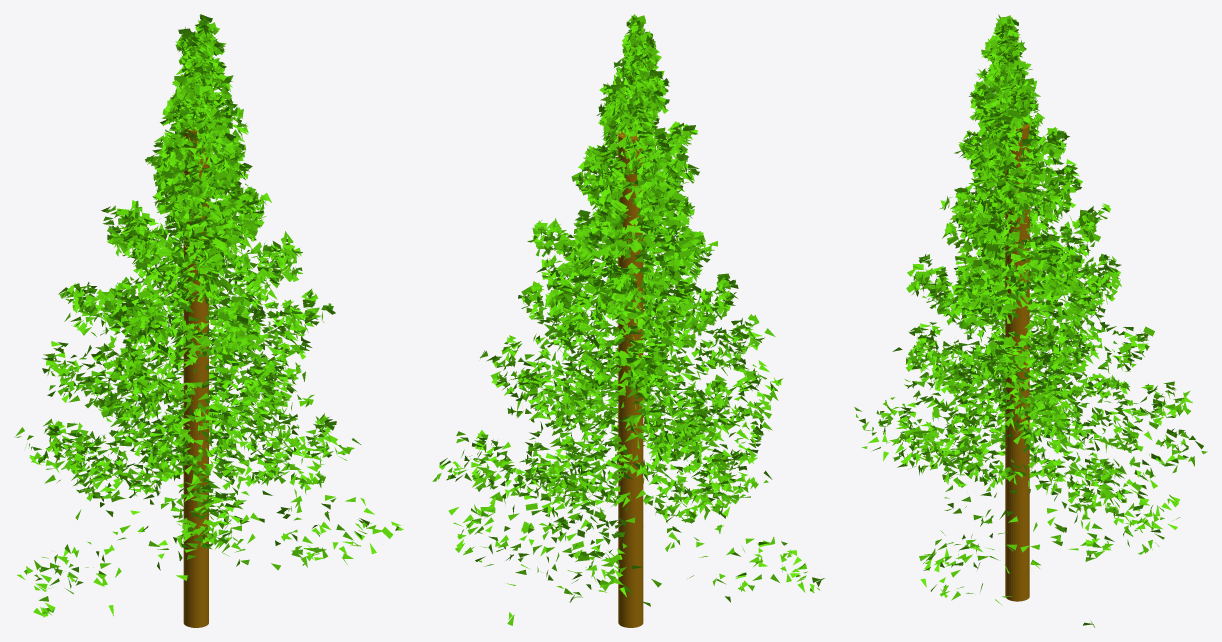
The model's file is tree.glb.
3 renders of one model, left to right at view 1: azimuth 30°, elevation 25°; view 2: azimuth 150°, elevation 25°; view 3: azimuth 270°, elevation 25°, orthographic. The views are drawn at different scales.
Parts seen in each view (by area): view 1: leaves.002; view 2: leaves.002; view 3: leaves.002.
Part boxes in pixels (box(x1,y1,x2,y2)): leaves.002: box(14, 14, 403, 627); leaves.002: box(432, 14, 824, 627); leaves.002: box(854, 14, 1207, 627).
Bounding box in the file's own units: 9.18 × 15.49 × 8.55.
